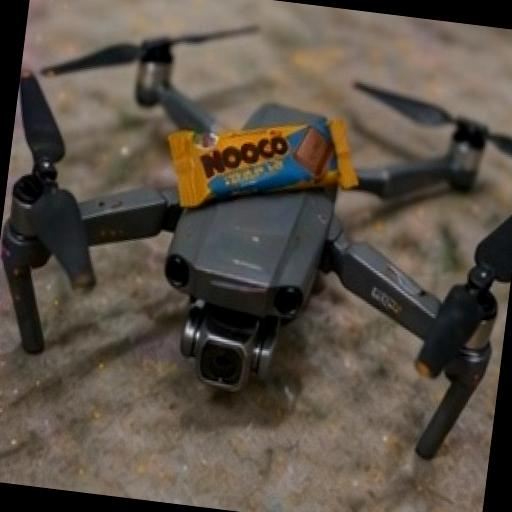biscuit-detection: (142, 82, 392, 245)
